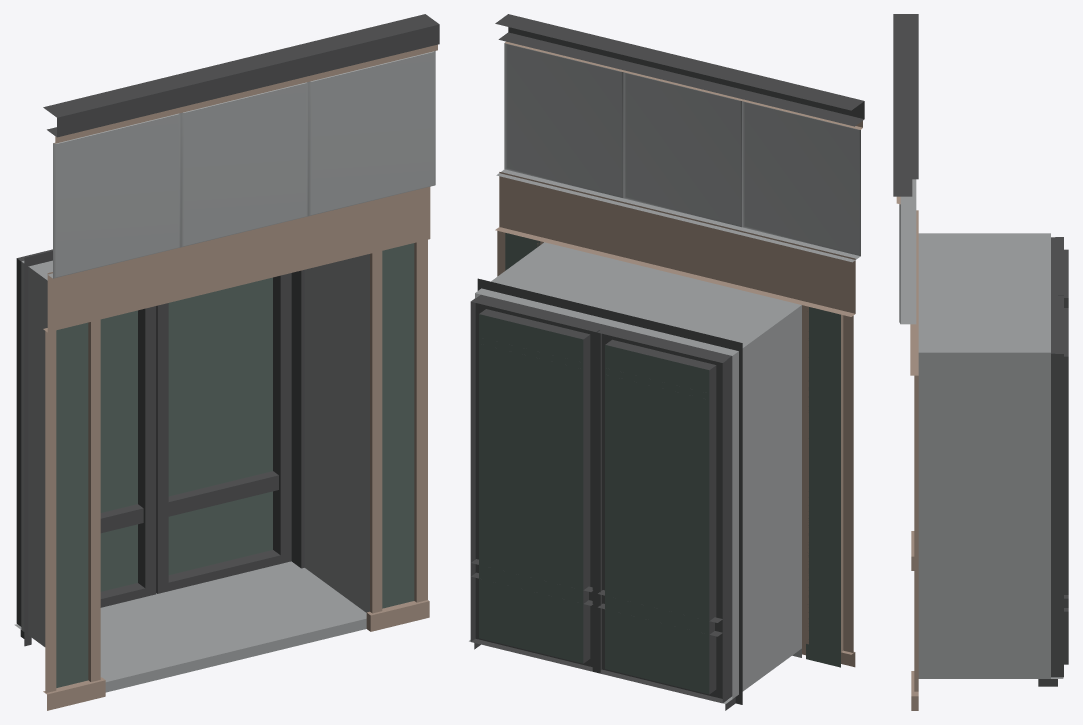
Rendered from BLD_m30_door_40_a.fbx.
The picture shows the model from 3 angles, left to right: view 1: azimuth 30°, elevation 25°; view 2: azimuth 150°, elevation 25°; view 3: azimuth 270°, elevation 25°; orthographic projection. The views are drawn at different scales.
Parts seen in each view (by area): view 1: BLD_m30_door_40_a; view 2: BLD_m30_door_40_a; view 3: BLD_m30_door_40_a.
Boxes of the visible parts, box(x1,y1,x2,y2) form: BLD_m30_door_40_a: box(14, 14, 439, 710); BLD_m30_door_40_a: box(469, 14, 864, 710); BLD_m30_door_40_a: box(893, 14, 1068, 710).
Bounding box in the file's own units: 400 × 600 × 179.
